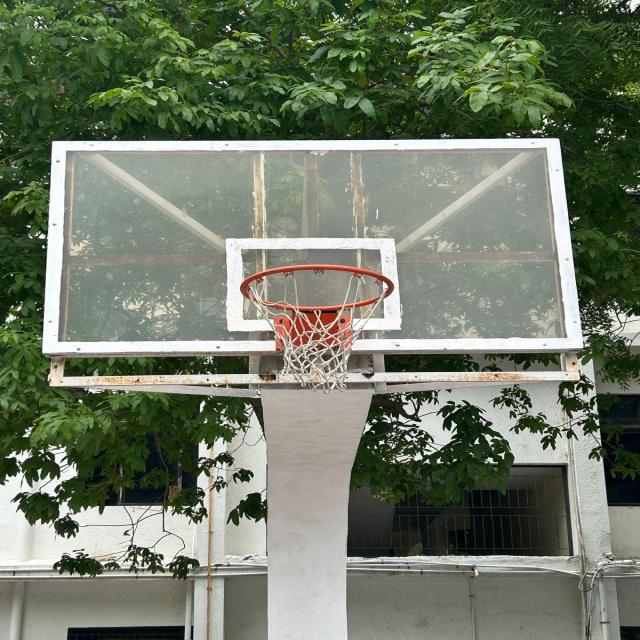hoop: (231, 255, 426, 406)
